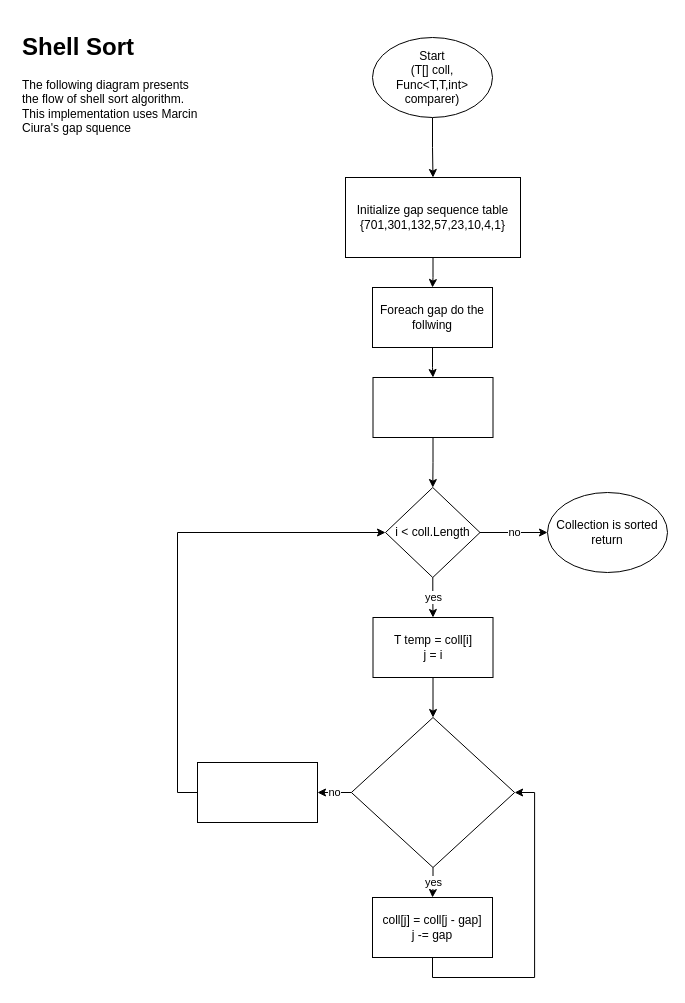
Image size: 685x1003. Some labels were removed from this diagram. Each missing label, with the centre of its shape:
"coll[j] = temp" belongs at pixel 257 792.
"i = gap" belongs at pixel 432 407.
"j >= gap && (use comparer) coll[j - gap] > temp" belongs at pixel 432 792.
